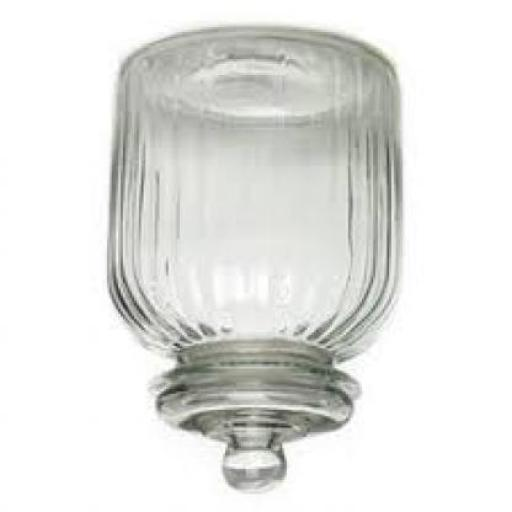glass: (104, 30, 402, 496)
